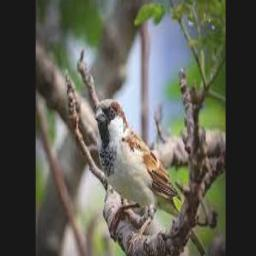Sparrow: (95, 98, 181, 247)
